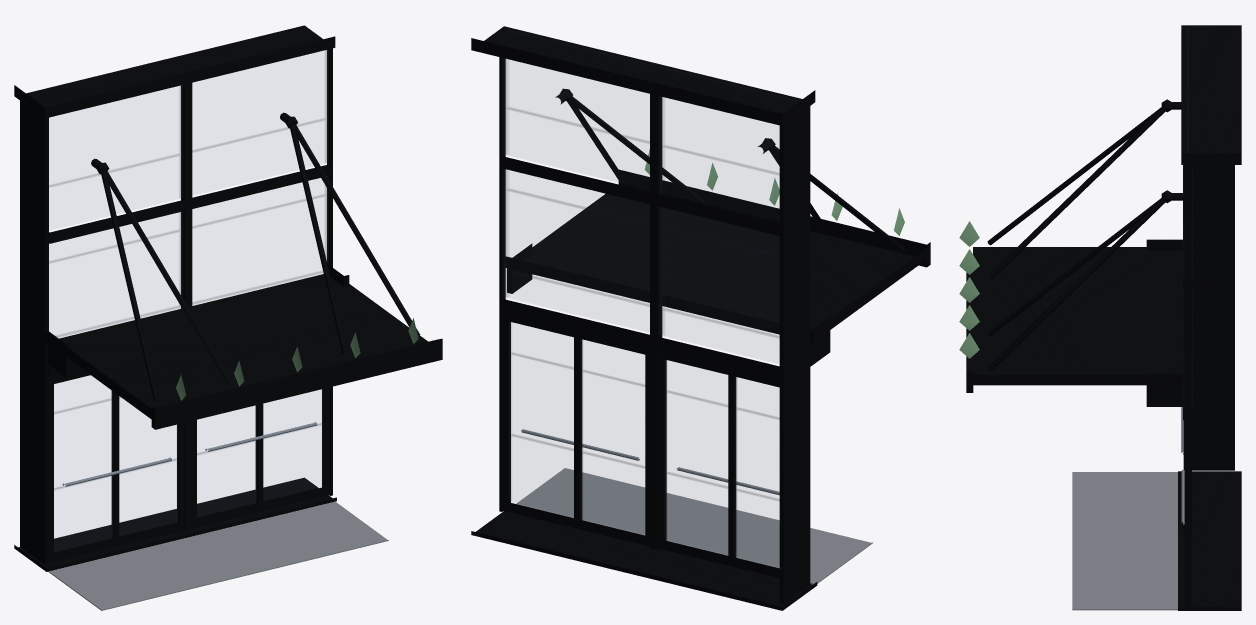
3 views of the same model, side by side, from view 1: azimuth 30°, elevation 25°; view 2: azimuth 150°, elevation 25°; view 3: azimuth 270°, elevation 25° (orthographic). The views are drawn at different scales.
Parts seen in each view (by area): view 1: Frame, Canopy, Threshold_Mat, Door_Stiles, Canopy_Fascia, Branch_Hangers, Glass_Mid_1, Glass_Mid_0, Glass_Upper_1, Glass_Upper_0, Glass_Door_0, Push_Bars (+2 smaller); view 2: Frame, Canopy, Door_Stiles, Threshold_Mat, Canopy_Fascia, Branch_Hangers, Glass_Door_1, Glass_Mid_1, Glass_Door_0, Glass_Mid_0, Glass_Upper_1, Glass_Upper_0 (+2 smaller); view 3: Frame, Canopy, Threshold_Mat, Branch_Hangers, Fascia_Leaf_Crests, Canopy_Fascia.
Boxes of the visible parts, bbox=[...] form: Frame: bbox=[14, 25, 336, 571]; Canopy: bbox=[45, 264, 438, 419]; Threshold_Mat: bbox=[48, 501, 388, 610]; Door_Stiles: bbox=[49, 369, 329, 562]; Canopy_Fascia: bbox=[151, 338, 442, 429]; Branch_Hangers: bbox=[91, 112, 420, 400]; Glass_Mid_1: bbox=[192, 176, 328, 304]; Glass_Mid_0: bbox=[49, 212, 182, 337]; Glass_Upper_1: bbox=[192, 50, 328, 162]; Glass_Upper_0: bbox=[49, 85, 182, 198]; Glass_Door_0: bbox=[54, 390, 177, 537]; Push_Bars: bbox=[62, 422, 317, 486]; Frame: bbox=[471, 26, 817, 610]; Canopy: bbox=[505, 184, 926, 366]; Door_Stiles: bbox=[502, 311, 779, 577]; Threshold_Mat: bbox=[516, 468, 873, 584]; Canopy_Fascia: bbox=[618, 169, 930, 267]; Branch_Hangers: bbox=[555, 88, 906, 253]; Glass_Door_1: bbox=[509, 322, 644, 518]; Glass_Mid_1: bbox=[504, 169, 649, 307]; Glass_Door_0: bbox=[665, 360, 779, 556]; Glass_Mid_0: bbox=[660, 207, 779, 338]; Glass_Upper_1: bbox=[504, 58, 649, 154]; Glass_Upper_0: bbox=[660, 96, 779, 192]; Frame: bbox=[1178, 25, 1241, 610]; Canopy: bbox=[973, 239, 1183, 406]; Threshold_Mat: bbox=[1072, 472, 1177, 610]; Branch_Hangers: bbox=[987, 99, 1183, 370]; Fascia_Leaf_Crests: bbox=[959, 221, 979, 358]; Canopy_Fascia: bbox=[966, 272, 973, 392].
Bounding box in the file's own units: 4 × 6.1 × 3.41.
5 materials, 3 textured.
